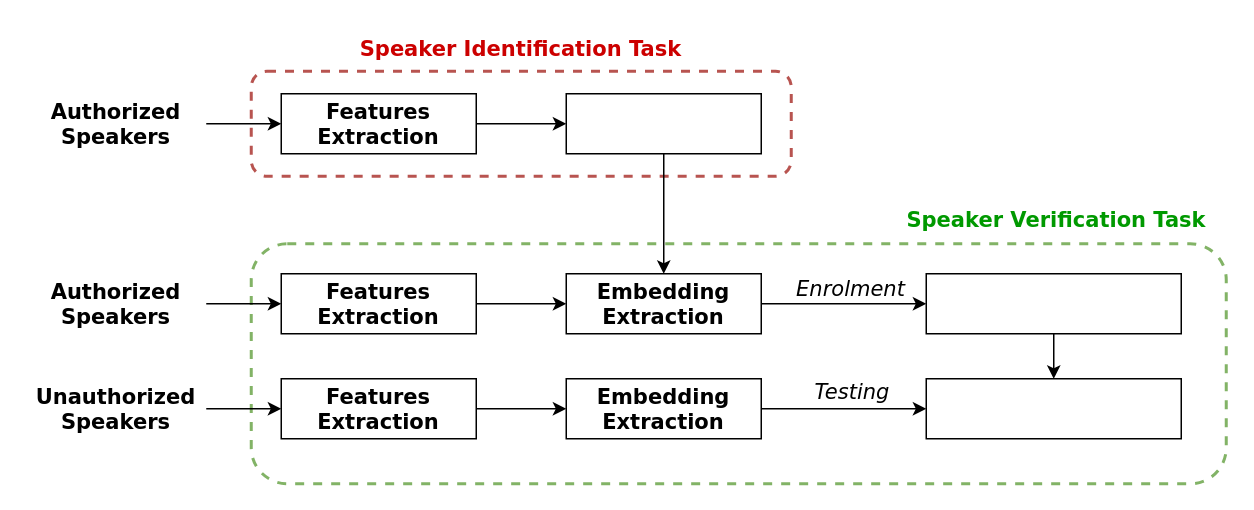
Some shapes in this 1254 by 510 pixel diagram are drawn without their labels. The shapes that lost their labels are listed below. From the top down, each one's centre as x and y in pixels, then its label:
At [663,123]: "Speaker Models".
At [1053,303]: "GMM-UBM (Background Model)".
At [1053,408]: "Scoring Rejection/Aceptance".
